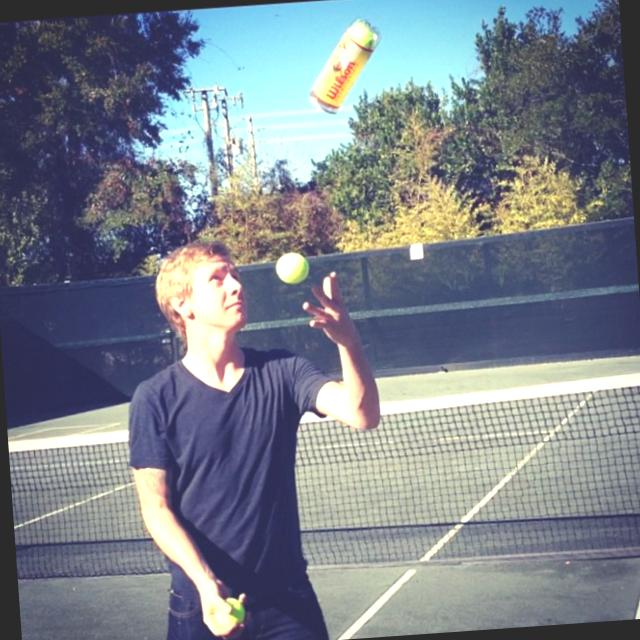Tennis ball: (274, 250, 310, 286)
